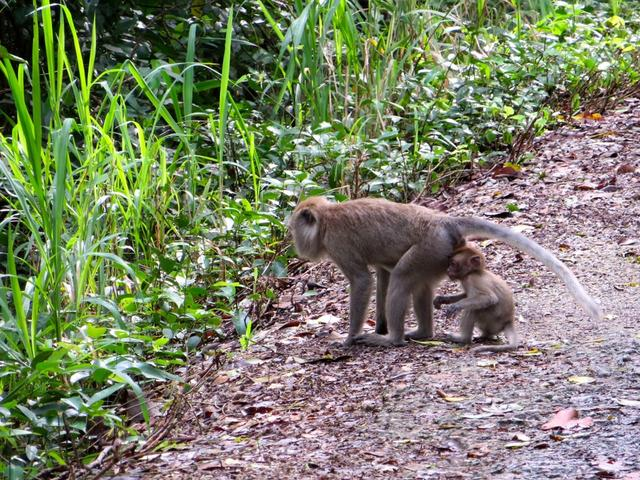monkey: (258, 175, 450, 386)
